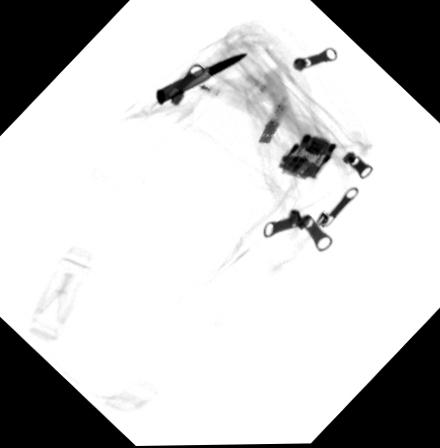Bullet: (151, 52, 249, 106)
